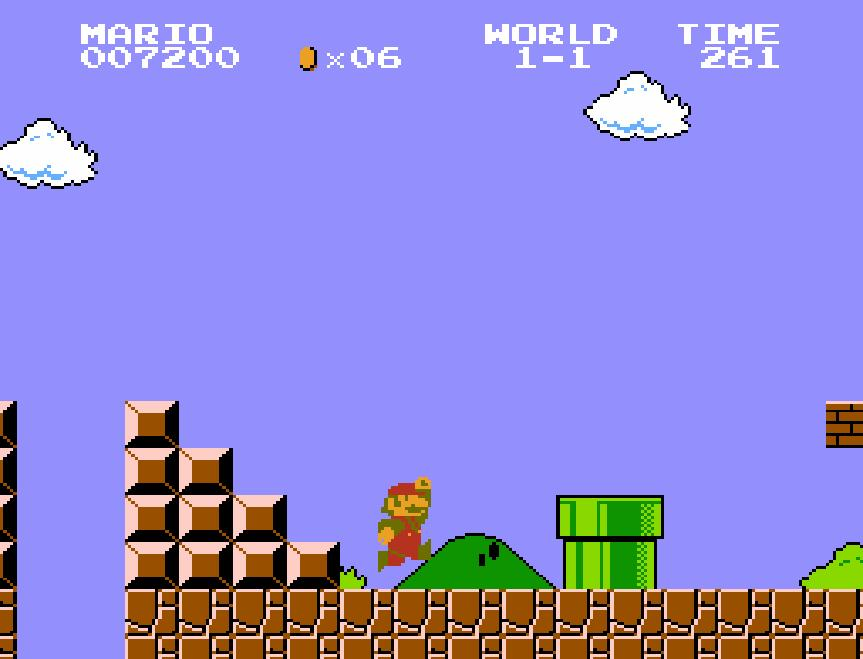big_mario: (376, 476, 434, 574)
